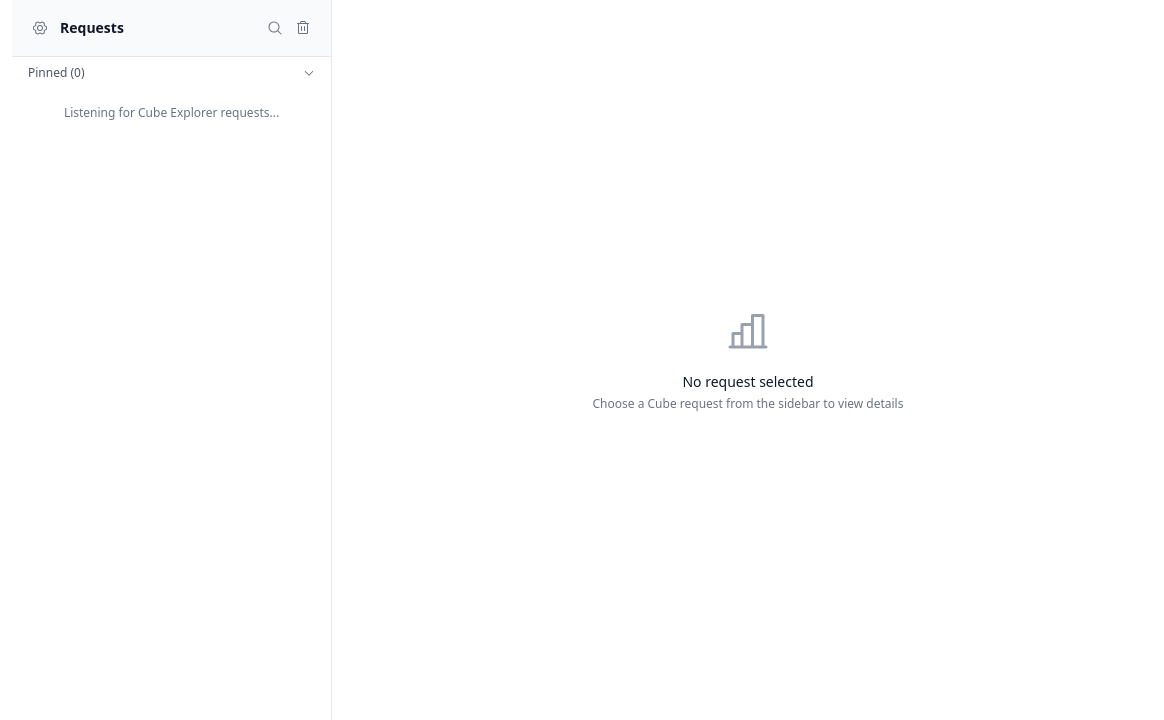
Test: Settings Panel Navigation › can navigate back and forth between settings and requests
Check: the heading "Requests" is shown, box [60, 18, 124, 38]
Check: the text "Settings" is not shown
Open settings
Click the button named "settings": {"x": 40, "y": 28} [28, 16, 52, 40]
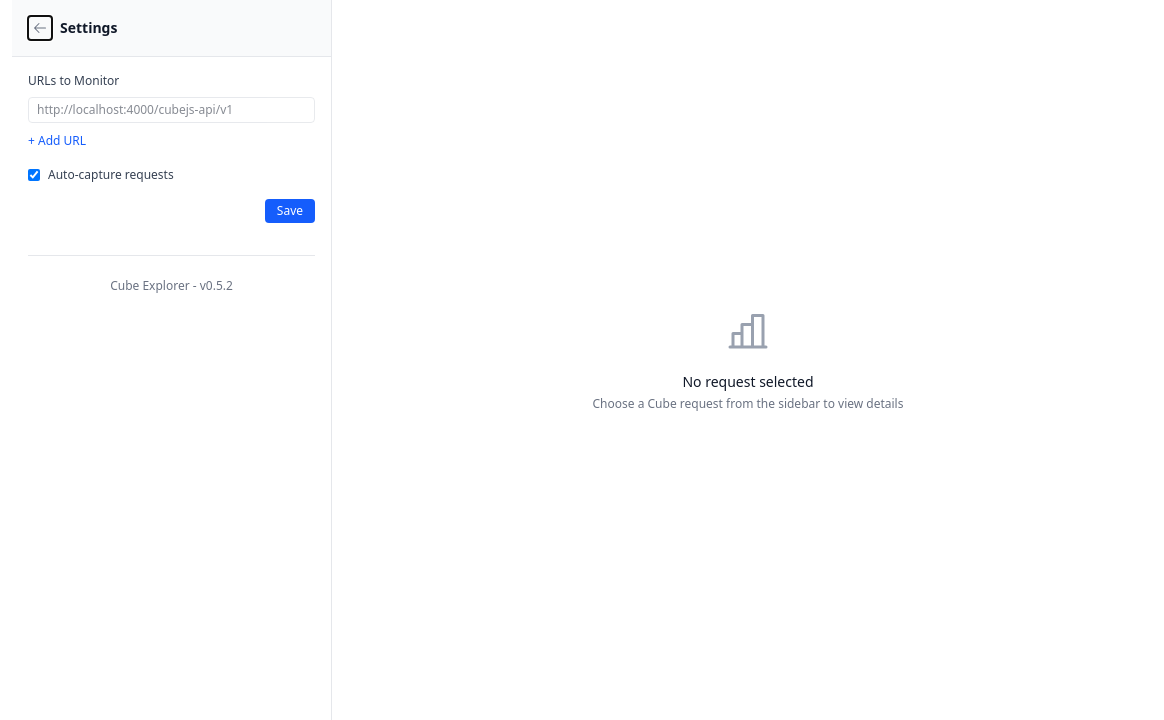
Check: the heading "Settings" is shown, box [60, 18, 117, 38]
Go back to requests
Click the button named "requests": {"x": 40, "y": 28} [28, 16, 52, 40]
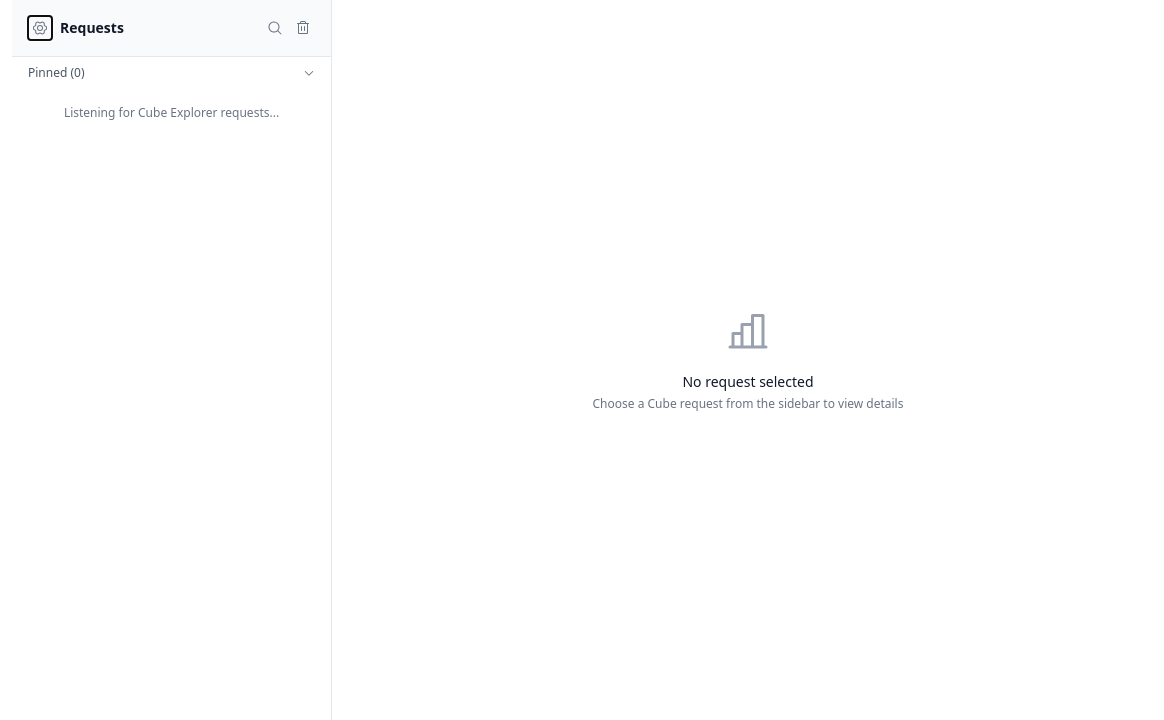
Check: the heading "Requests" is shown, box [60, 18, 124, 38]
Check: the heading "Settings" is gone
Can go back to settings again
Click the button named "settings": {"x": 40, "y": 28} [28, 16, 52, 40]
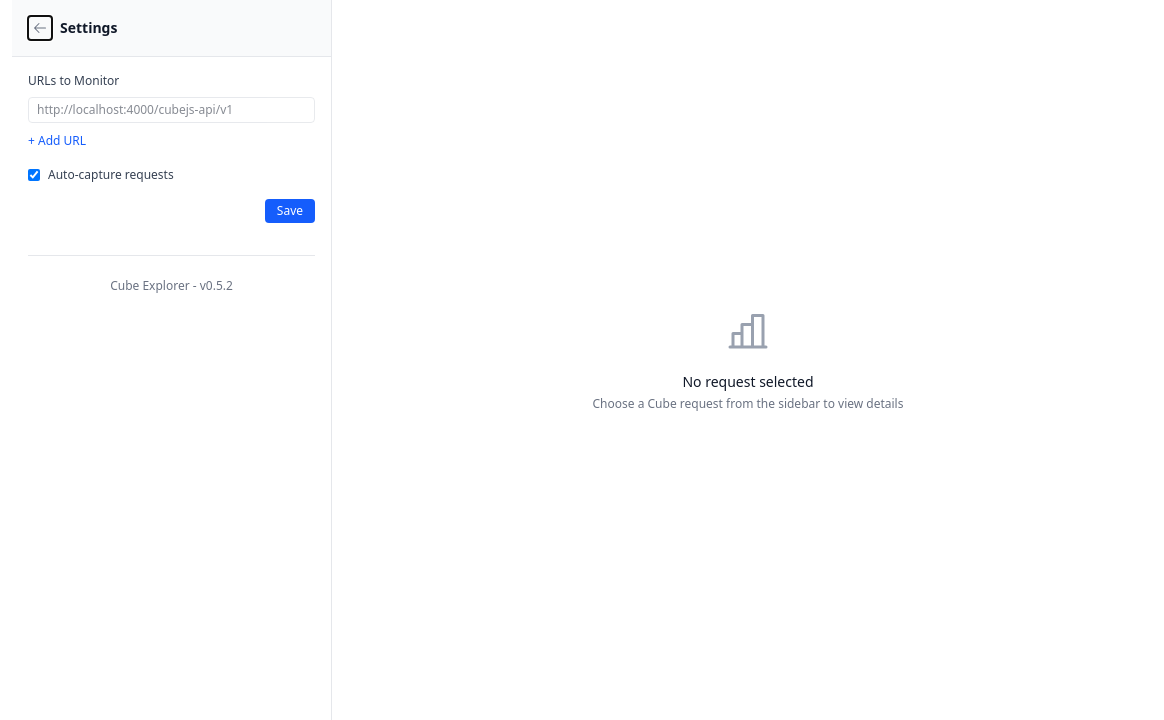
Check: the heading "Settings" is shown, box [60, 18, 117, 38]
